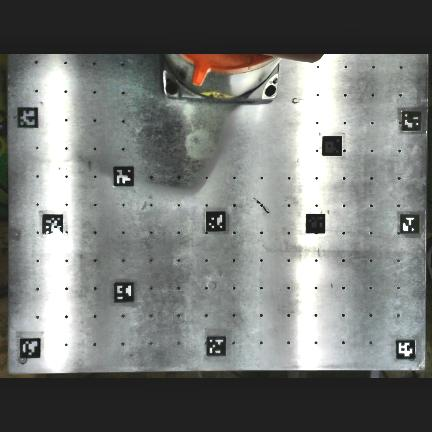marker: (16, 106, 39, 129), (205, 211, 226, 233), (206, 336, 226, 357), (399, 215, 420, 235), (42, 215, 63, 235), (20, 338, 40, 358), (305, 213, 325, 233), (402, 111, 422, 131), (114, 282, 133, 303), (322, 136, 342, 155), (113, 167, 133, 186), (395, 341, 415, 359)
